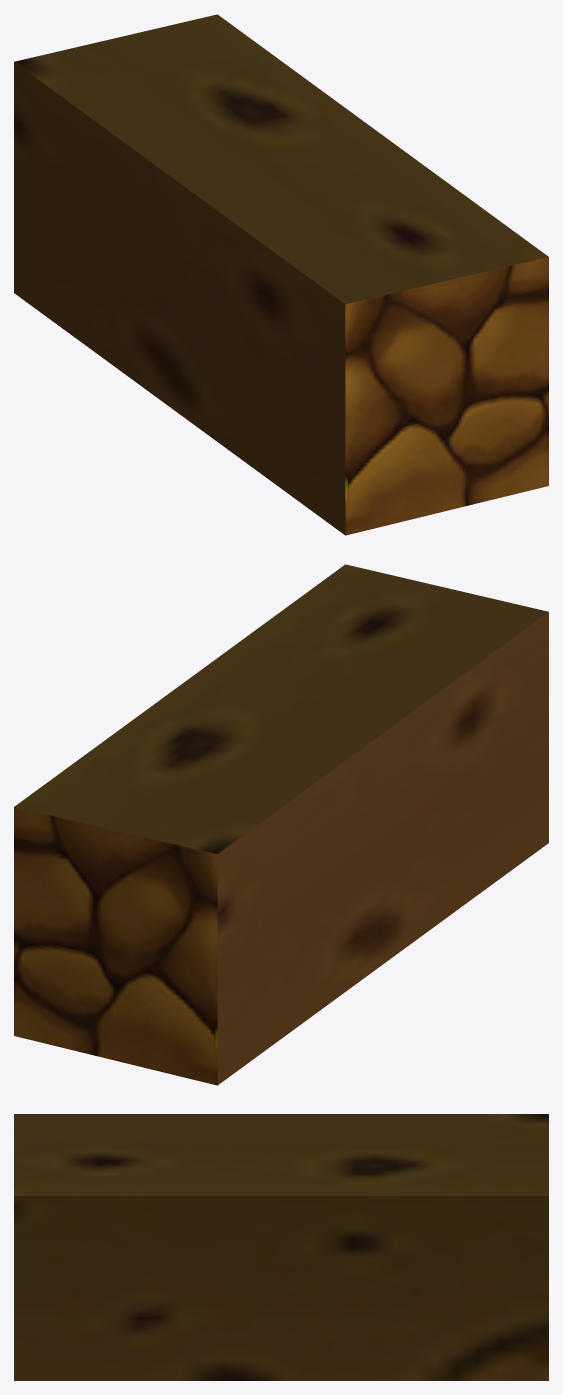
Rendered from Road_13.fbx.
The picture shows the model from 3 angles, top to bottom: view 1: azimuth 30°, elevation 25°; view 2: azimuth 150°, elevation 25°; view 3: azimuth 270°, elevation 25°; orthographic projection. The views are drawn at different scales.
Parts seen in each view (by area): view 1: Road_13; view 2: Road_13; view 3: Road_13.
Part boxes in pixels (x1=…): Road_13: x1=14, y1=14, x2=548, y2=535; Road_13: x1=14, y1=564, x2=548, y2=1085; Road_13: x1=14, y1=1114, x2=548, y2=1380.
Bounding box in the file's own units: 1.51 × 1.64 × 4.26.
Materials: 1 (1 with a texture image).
